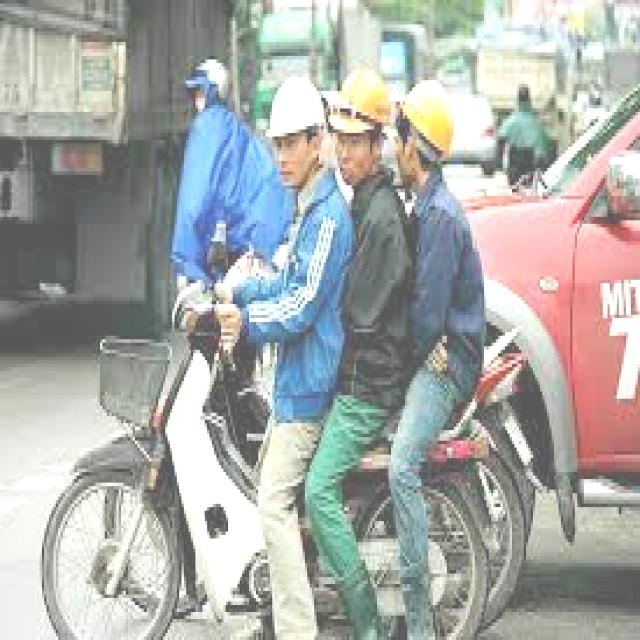motorcycle: (32, 270, 513, 640)
person: (237, 72, 356, 576), (320, 46, 425, 536), (388, 75, 492, 518)
rider_region: (36, 70, 505, 640)
